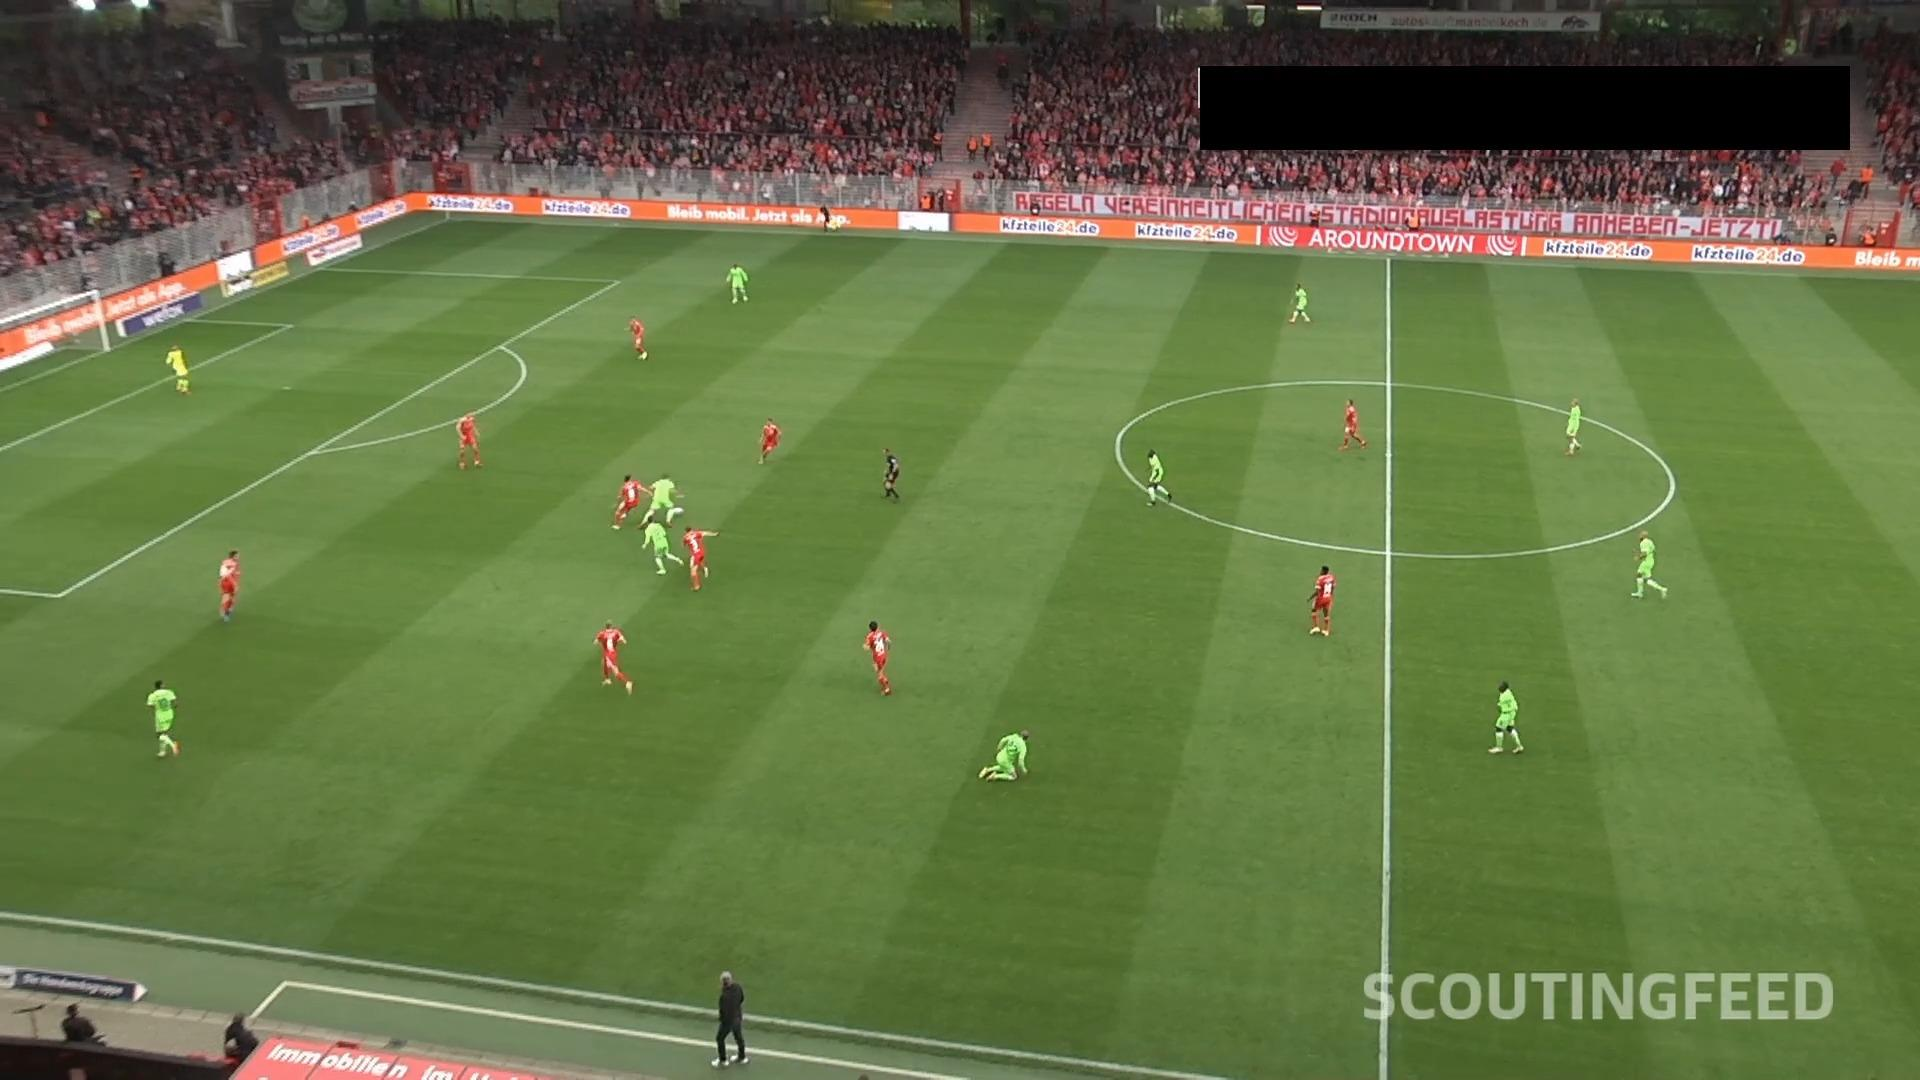ball: (671, 505, 684, 518)
